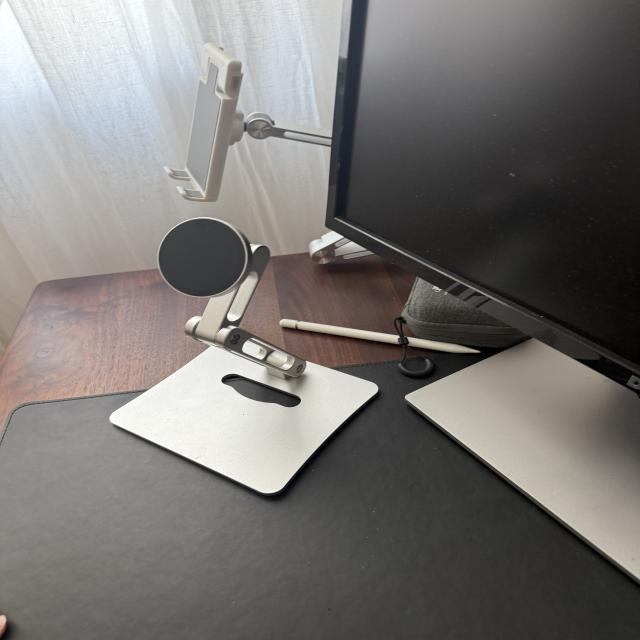phone holder: (91, 212, 388, 504)
